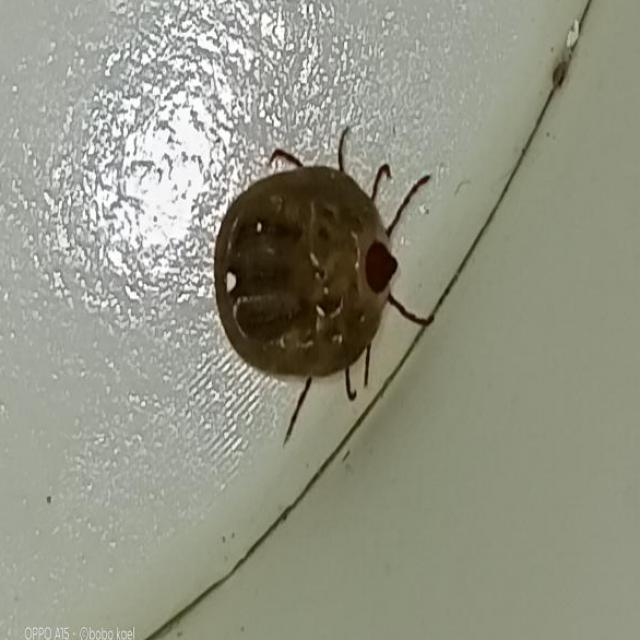Rhipicephalus Sanguineus-F-Fed: (214, 124, 438, 449)
